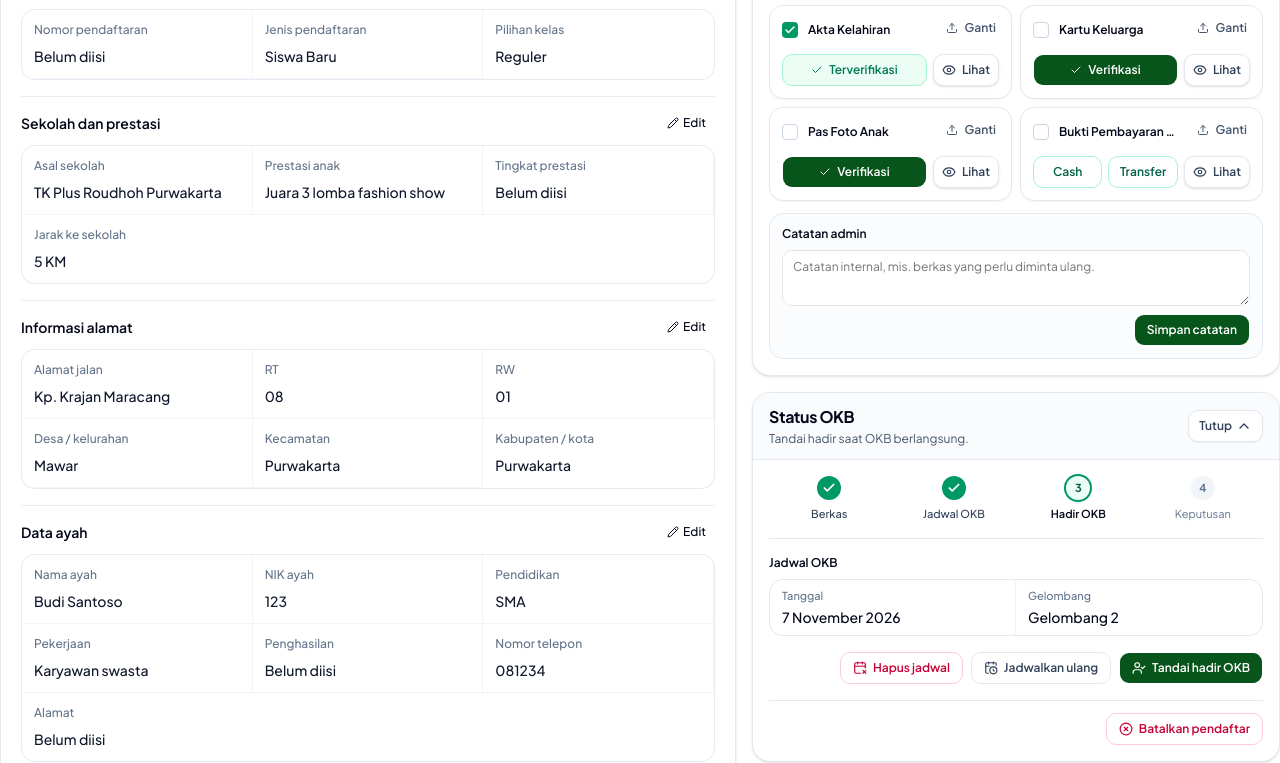
Test: ParticipantDetail › shows the OKB schedule with attendance and reschedule actions once scheduled
(page scrolled)
Expected: the text "7 November 2026" is shown, [782,608,901,626]
Expected: the text "Gelombang 2" is shown, [1028,608,1119,626]
Click the button "Jadwalkan ulang" at {"x": 1041, "y": 668}, box [971,652,1111,684]
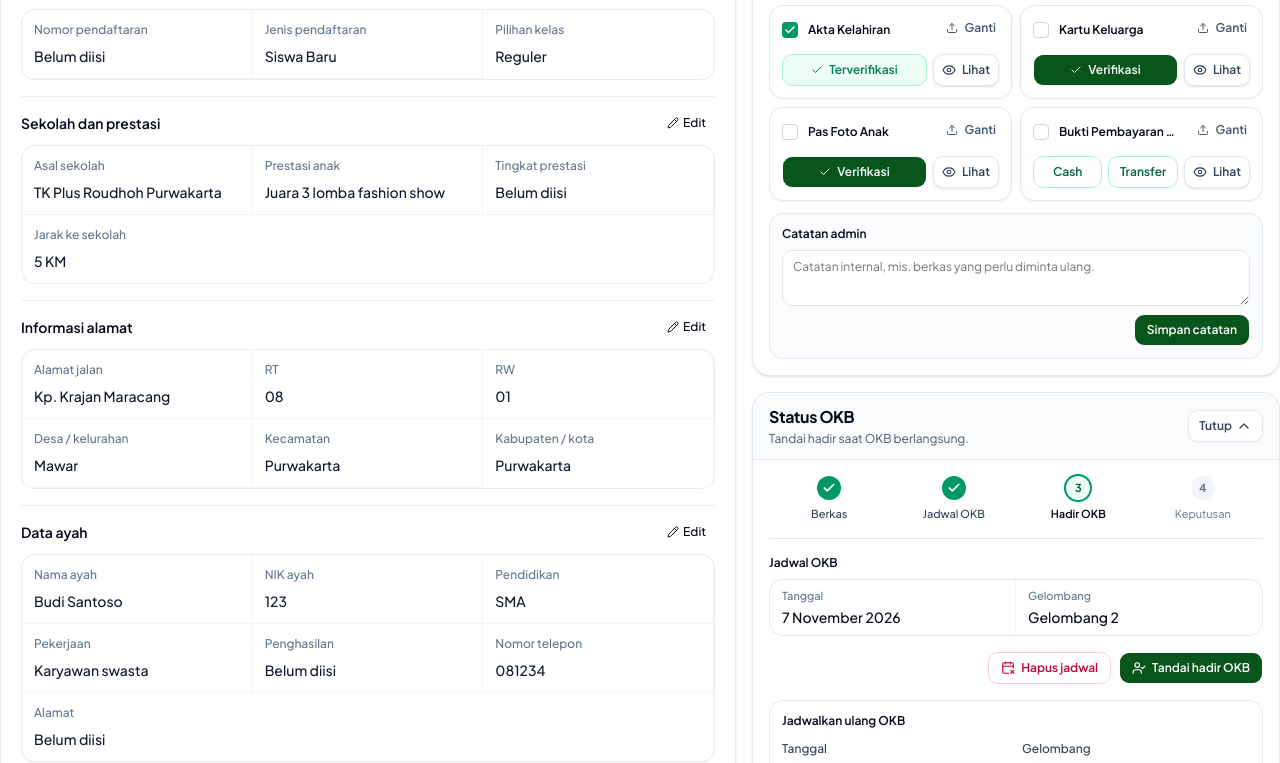
Expected: the list item "3 Hadir OKB" is shown, [1051,476,1106,520]
Expected: the heading "Jadwalkan ulang OKB" is shown, [782,712,905,728]
